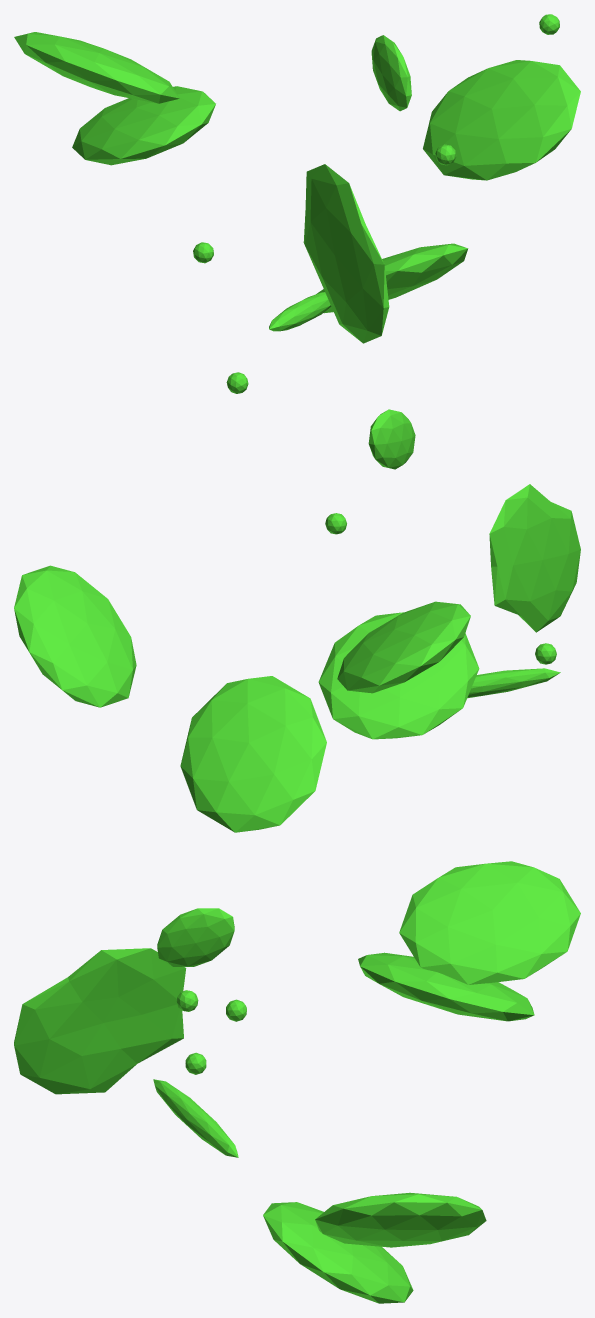
The model's file is Space_Merged.fbx.
3 views of the same model, one above another, from view 1: azimuth 30°, elevation 25°; view 2: azimuth 150°, elevation 25°; view 3: azimuth 270°, elevation 25° (orthographic). The views are drawn at different scales.
Visible parts, largest first — view 1: Icosphere.001; view 2: Icosphere.001; view 3: Icosphere.001.
Part boxes in pixels (box(x1,y1,x2,y2)): Icosphere.001: box(14, 14, 580, 343); Icosphere.001: box(14, 372, 580, 832); Icosphere.001: box(14, 861, 580, 1303).
Size of the model in its own units: 11869 by 8229 by 11750.
